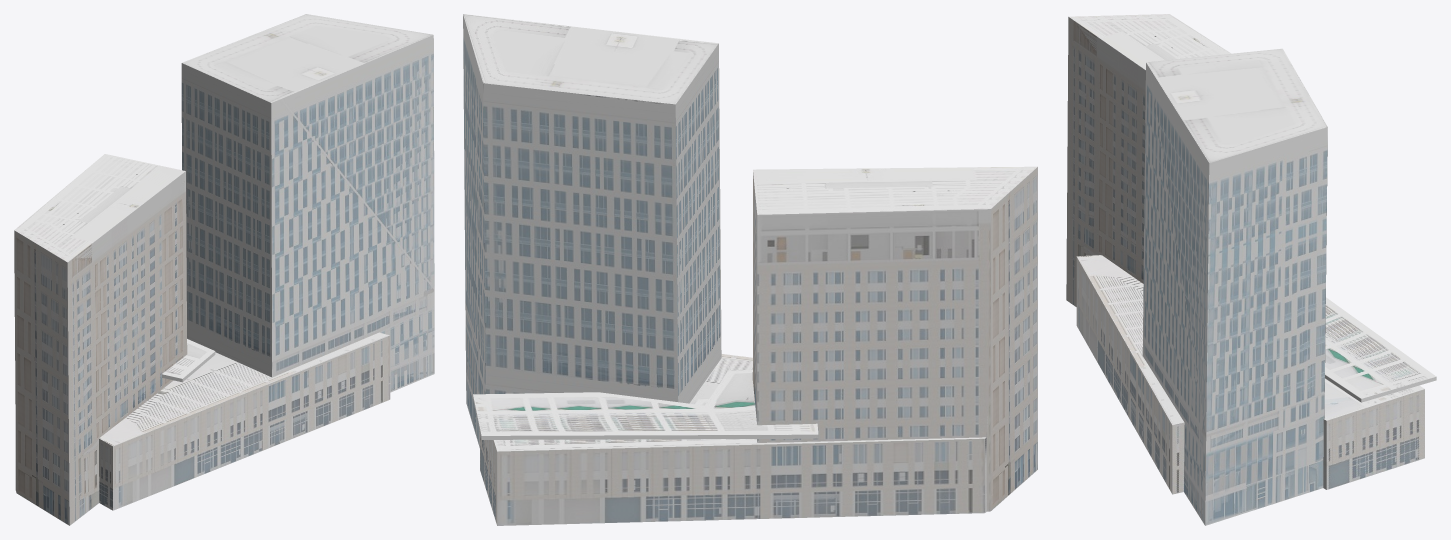
The picture shows the model from 3 angles, left to right: view 1: azimuth 30°, elevation 25°; view 2: azimuth 150°, elevation 25°; view 3: azimuth 270°, elevation 25°; orthographic projection. The views are drawn at different scales.
Visible parts, largest first — view 1: 7.001; view 2: 7.001; view 3: 7.001.
Boxes of the visible parts, x1,y1,x2,y2 form: 7.001: [14, 14, 434, 525]; 7.001: [463, 14, 1037, 525]; 7.001: [1066, 14, 1436, 525].
Size of the model in its own units: 117 by 86.05 by 79.46.
1 material, 1 textured.
